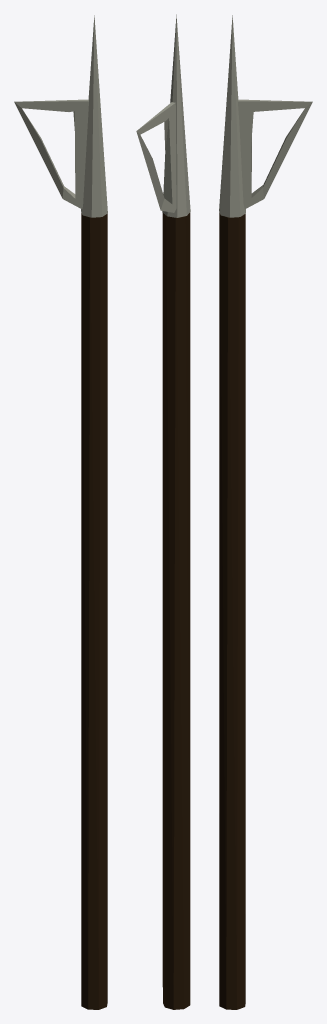
The model's file is Pike.glb.
3 views of the same model, side by side, from view 1: azimuth 90°, elevation 25°; view 2: azimuth 150°, elevation 25°; view 3: azimuth 270°, elevation 25° (orthographic).
Parts seen in each view (by area): view 1: Spear; view 2: Spear; view 3: Spear.
Boxes of the visible parts, x1,y1,x2,y2 form: Spear: [14, 15, 107, 1009]; Spear: [136, 14, 190, 1009]; Spear: [219, 15, 312, 1009].
Bounding box in the file's own units: 0.0757 × 3.05 × 0.2622.
